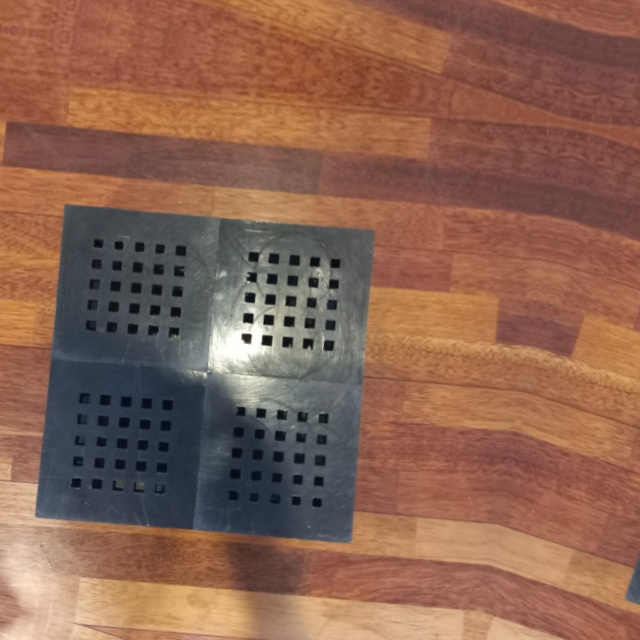pallet: (29, 191, 408, 557)
